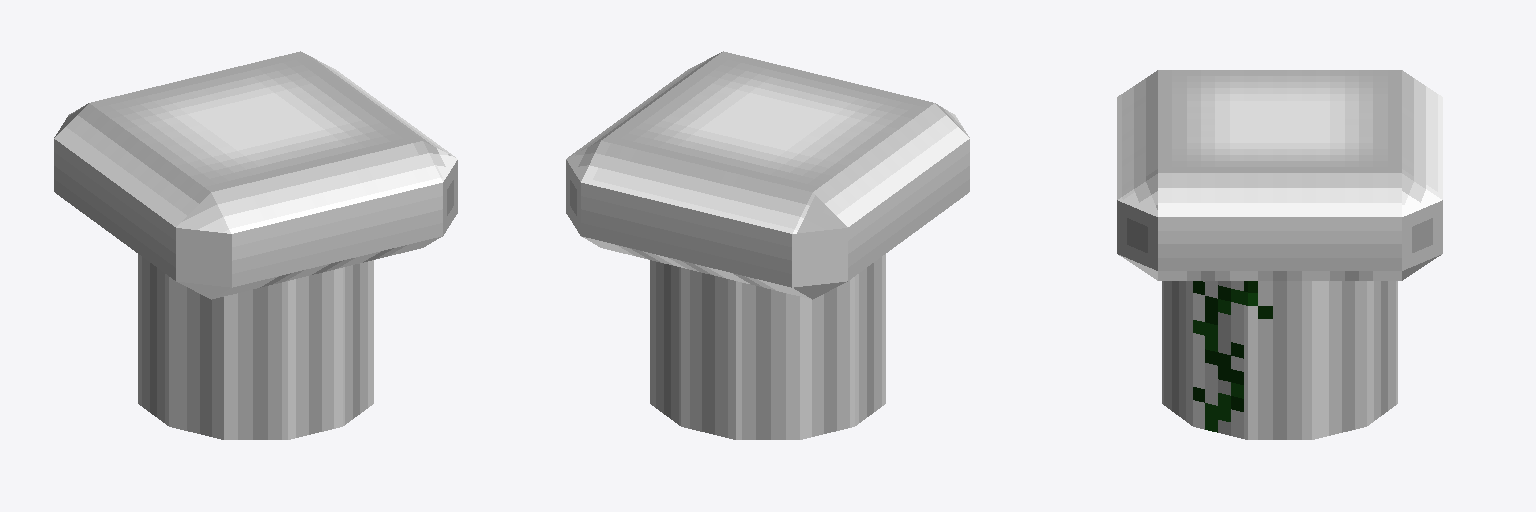
3 views of the same model, side by side, from view 1: azimuth 30°, elevation 25°; view 2: azimuth 150°, elevation 25°; view 3: azimuth 270°, elevation 25° (orthographic).
Visible parts, largest first — view 1: beveled_cuboid, cylinder; view 2: beveled_cuboid, cylinder; view 3: beveled_cuboid, cylinder.
Part boxes in pixels (x1,y1,x2,y2): beveled_cuboid: (54, 51, 457, 299); cylinder: (138, 254, 373, 439); beveled_cuboid: (566, 51, 969, 299); cylinder: (650, 254, 885, 439); beveled_cuboid: (1117, 70, 1442, 280); cylinder: (1162, 281, 1397, 439).
Size of the model in its own units: 1.38 by 1.25 by 1.38.
Materials: 2 (2 with a texture image).